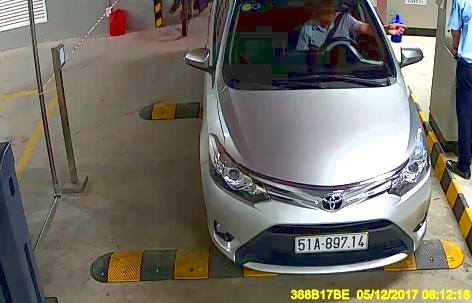plate: (293, 228, 371, 251)
